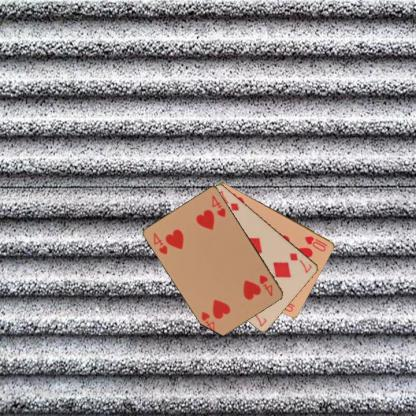10h: (302, 234, 330, 252)
4h: (256, 272, 274, 298), (151, 230, 169, 256)
7d: (287, 250, 313, 274)
